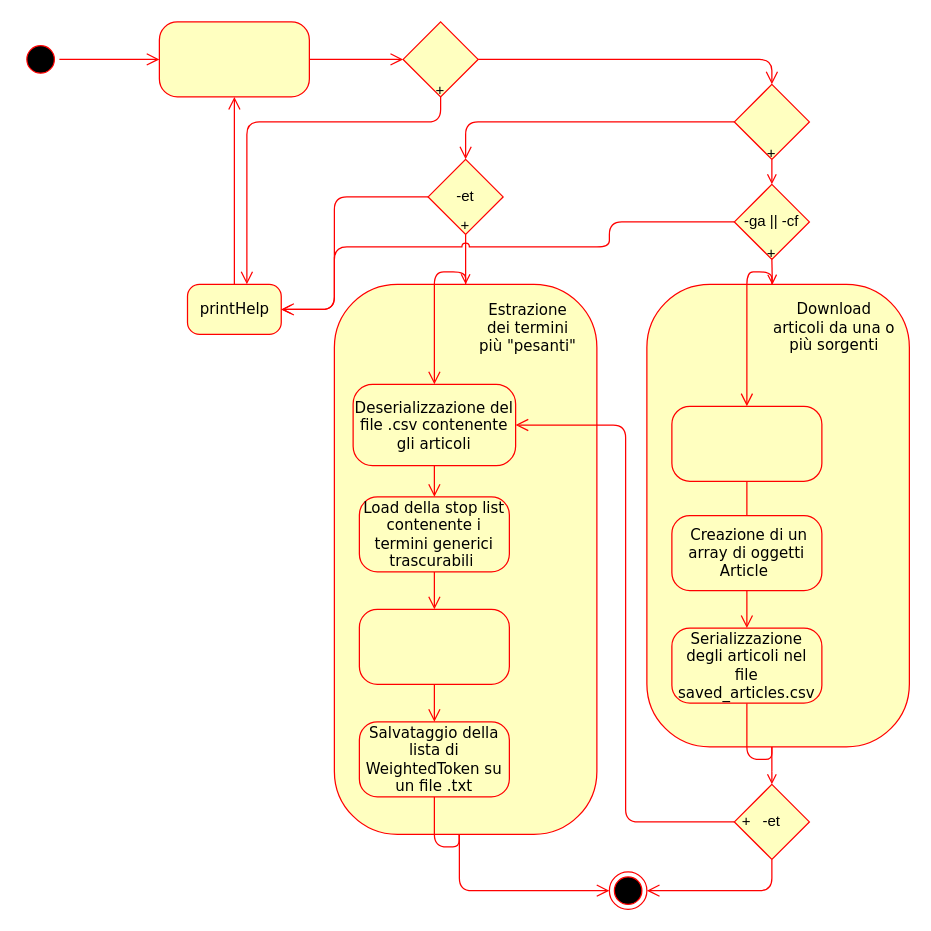
Image size: 931x931. Some labels were removed from this diagram. The box of each missing label's shape, as (x1, y1, x2, y2) in pixels:
-h: (402, 21, 478, 97)
-sf: (733, 83, 809, 159)
Creazione di una lista di WeightedToken: (358, 608, 509, 684)
Recupero della risorsa: (671, 405, 822, 481)
Utente sceglie una funzionalità del sistema tramite cli: (158, 21, 309, 97)
